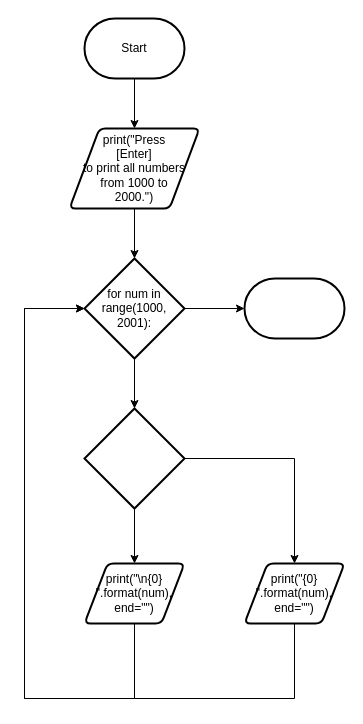
This 363x724 diagram has some shape labels left out. The shapes that lost their labels are listed below. From the top down, each one's box as (x1, y1, x2, y2) in pixels, then its label:
(243, 277, 345, 339): Stop
(83, 407, 185, 509): if num % 5 == 0 and num != 1000:
